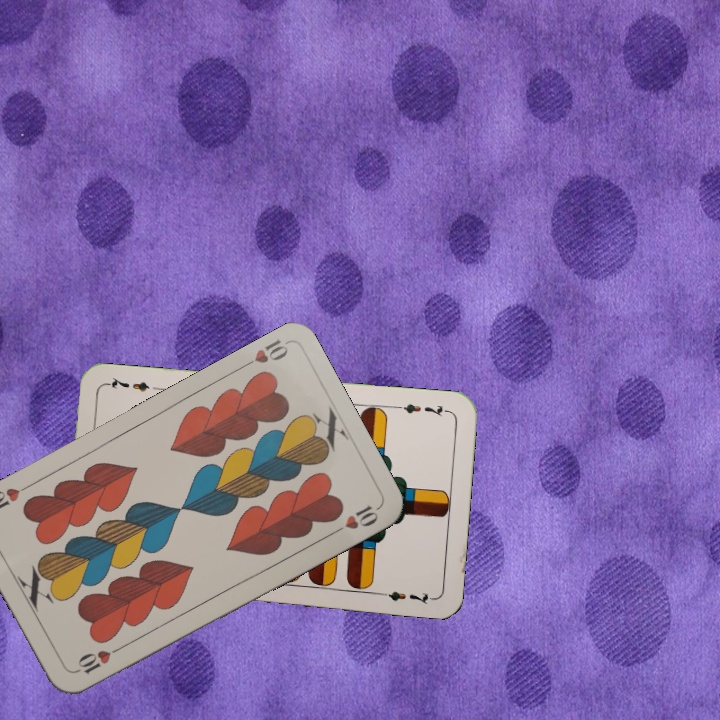E7: (392, 399, 452, 419)
H10: (236, 335, 291, 372), (71, 641, 126, 677)
